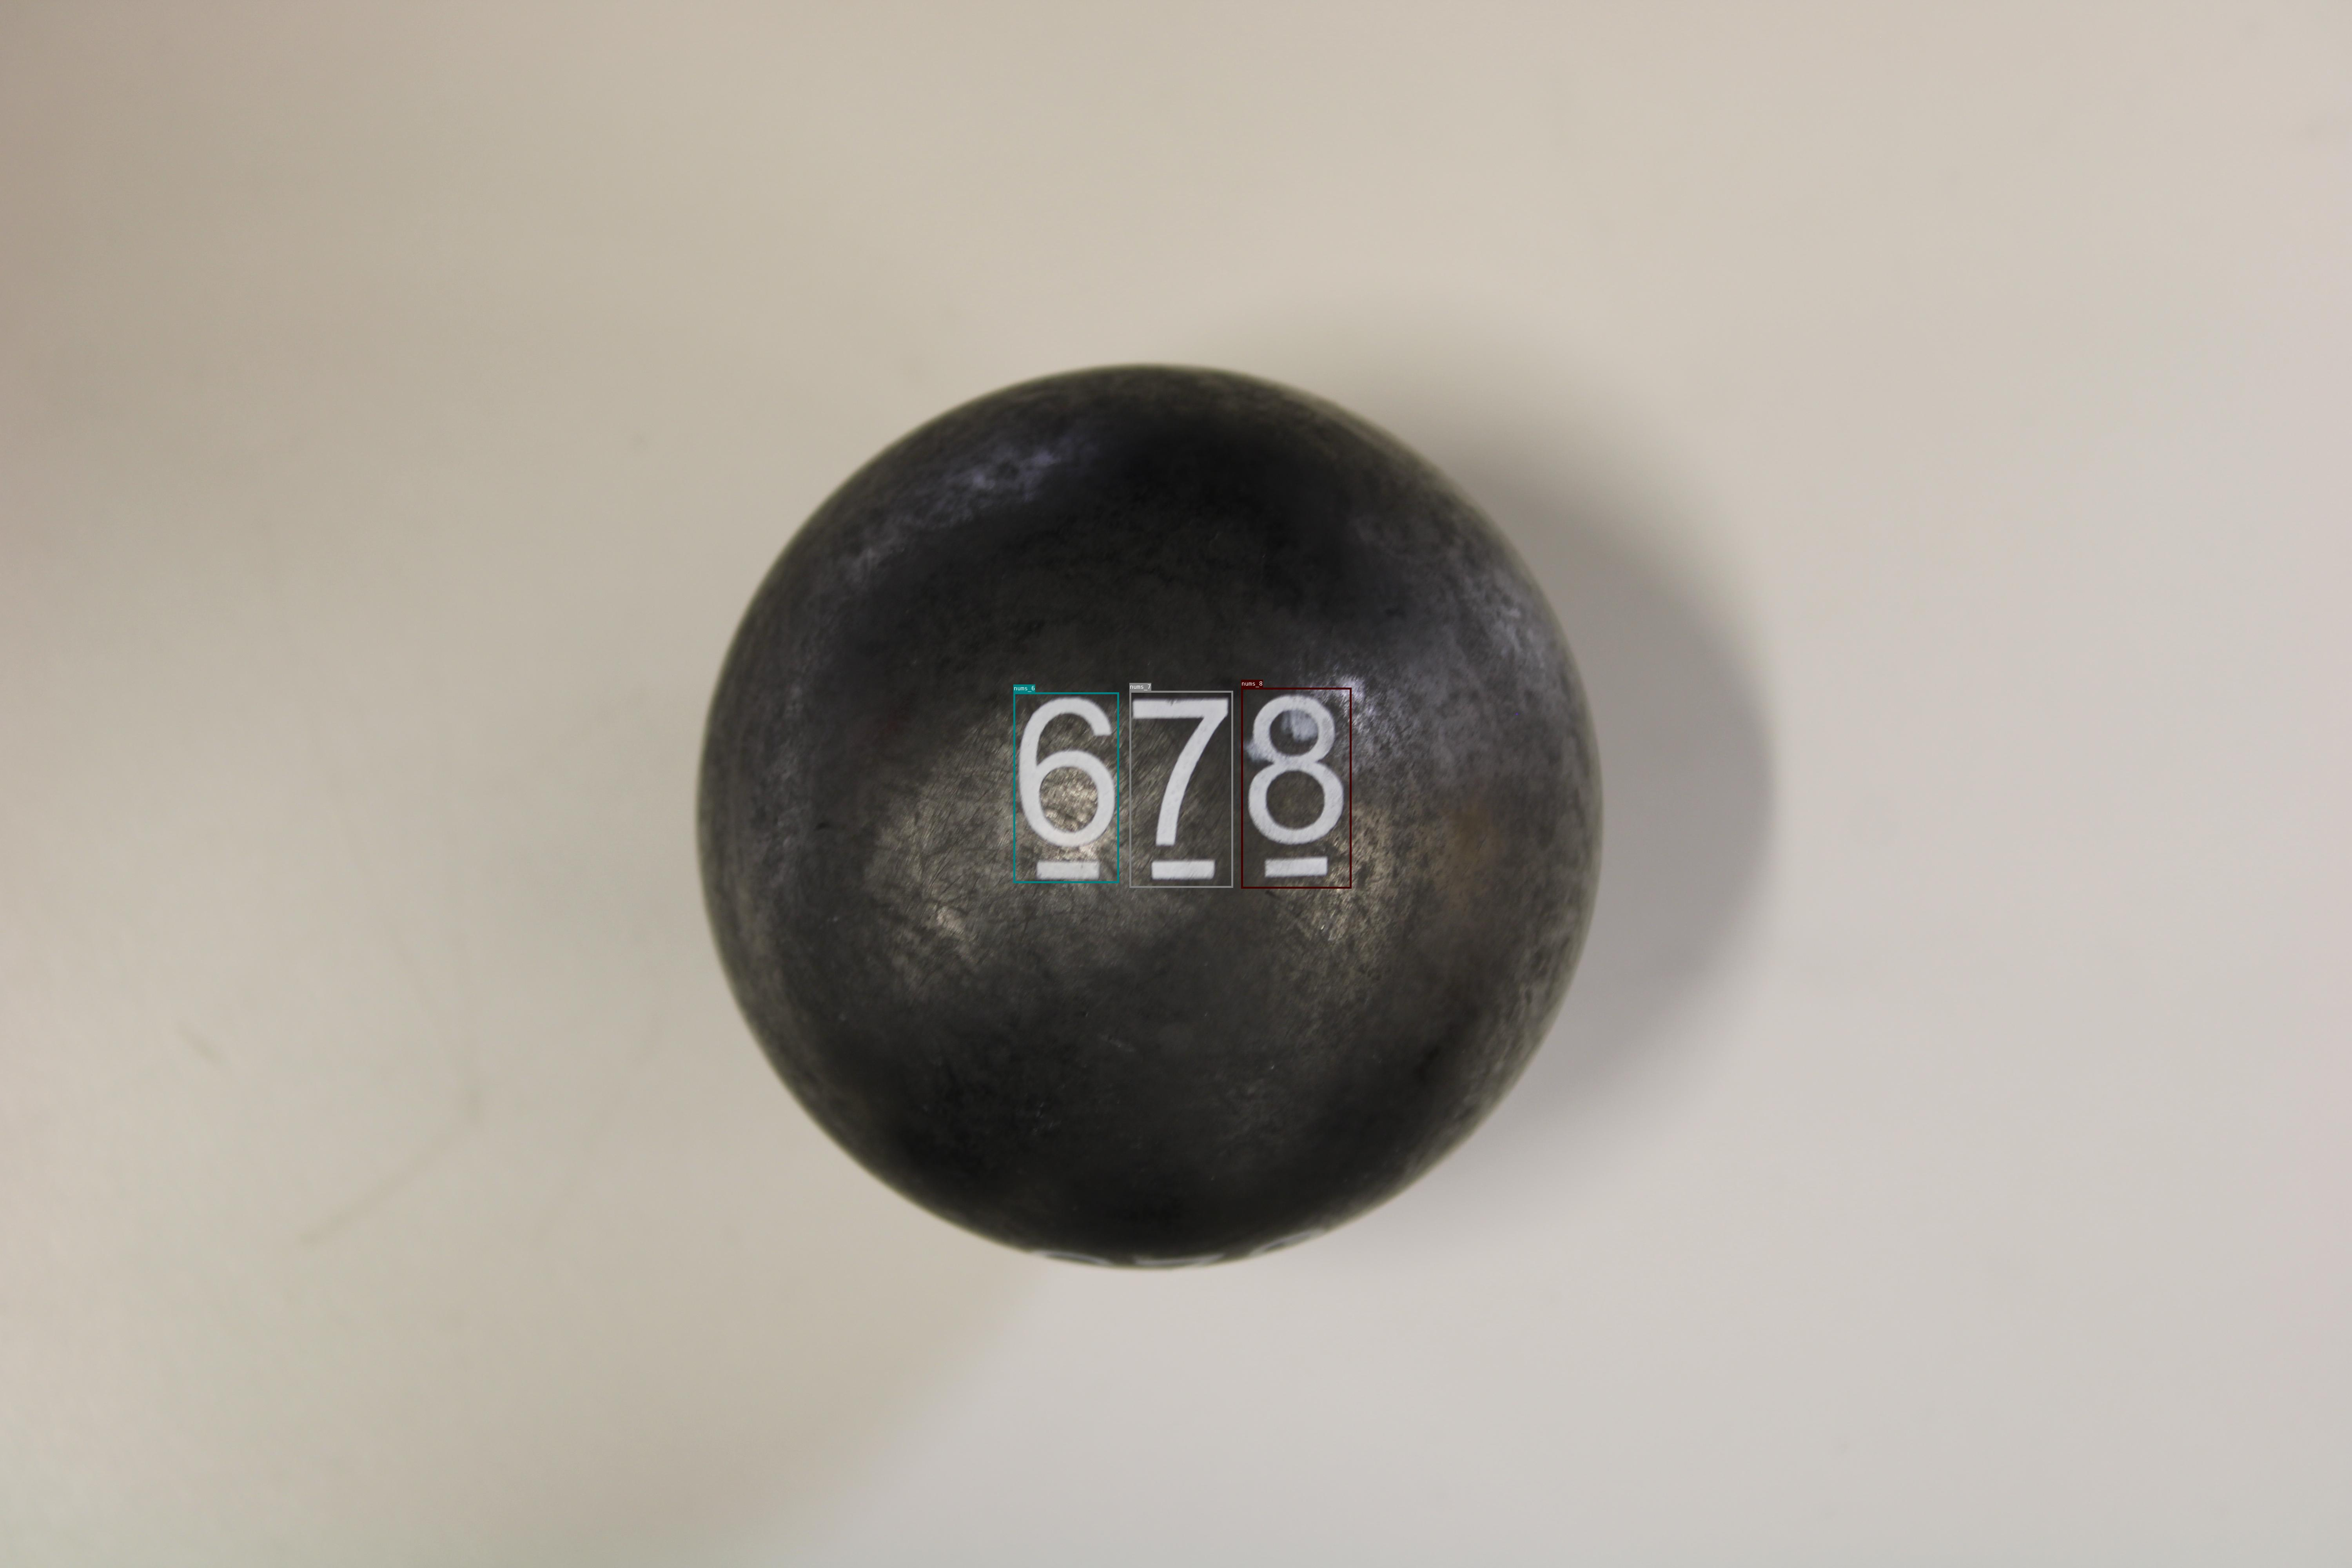nums_6: (1013, 693, 1118, 882)
nums_7: (1129, 691, 1232, 887)
nums_8: (1241, 688, 1351, 889)
